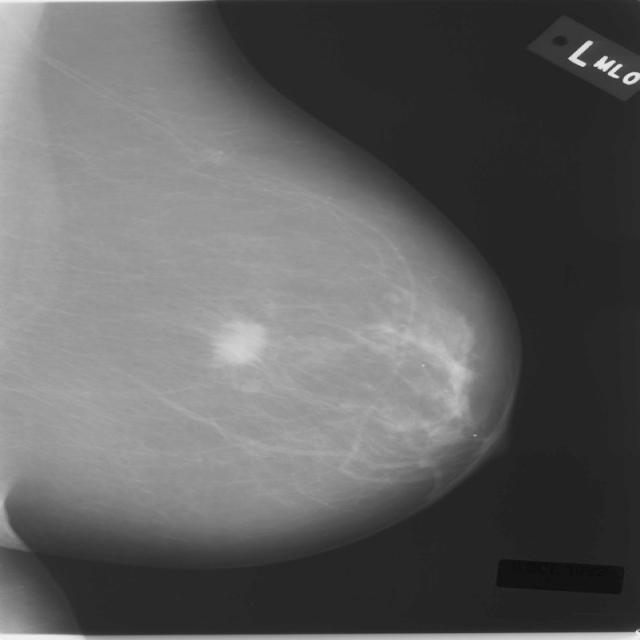tumour: (213, 320, 266, 366)
